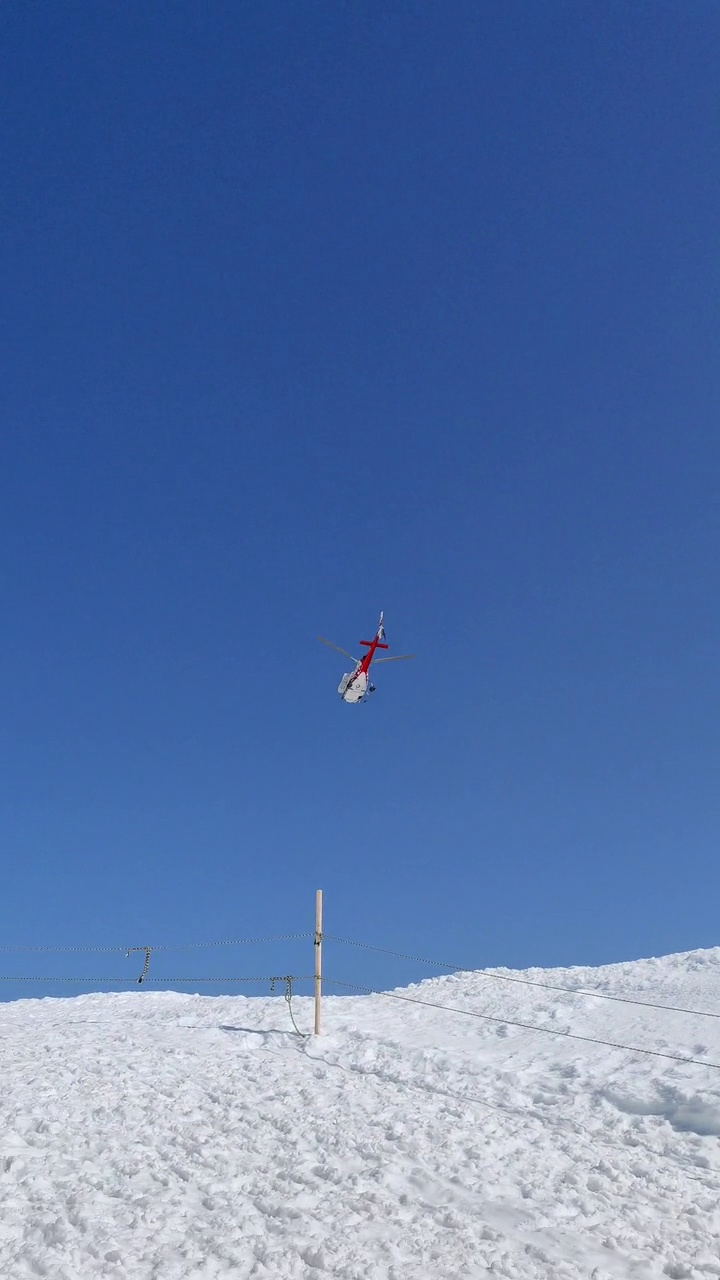heli: (318, 610, 412, 707)
